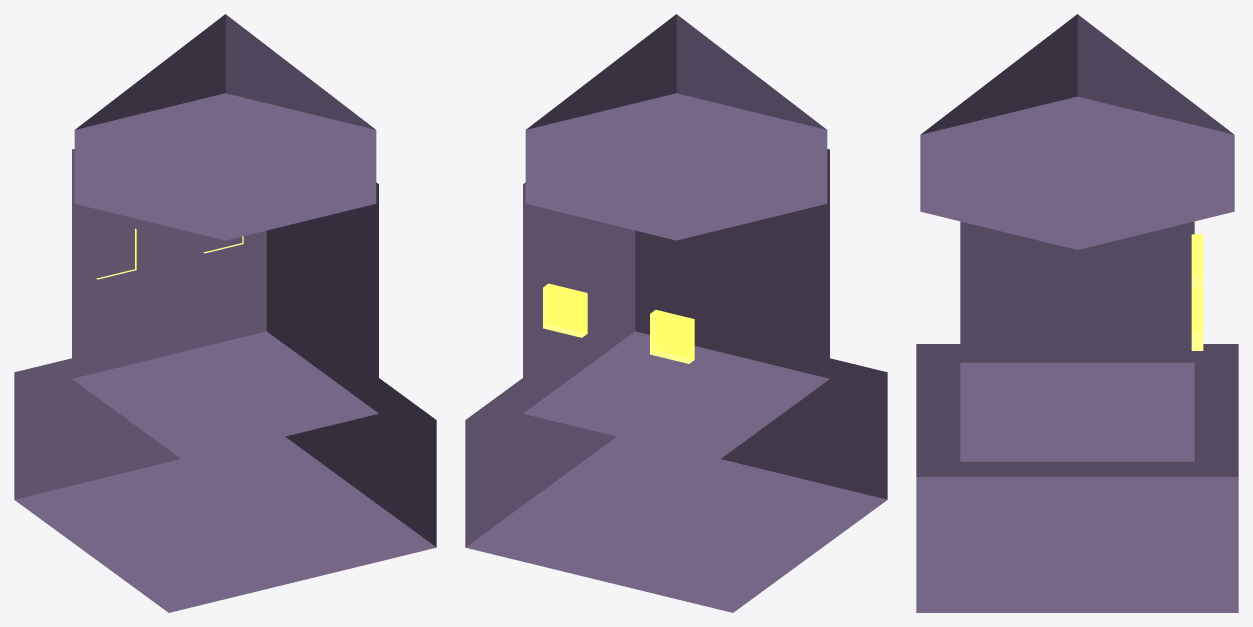
The model's file is structure.glb.
3 views of the same model, side by side, from view 1: azimuth 30°, elevation 25°; view 2: azimuth 150°, elevation 25°; view 3: azimuth 270°, elevation 25° (orthographic). The views are drawn at different scales.
Visible parts, largest first — view 1: structure; view 2: structure; view 3: structure.
Part boxes in pixels (<box>): structure: <box>14,14,436,612</box>; structure: <box>465,14,887,612</box>; structure: <box>916,14,1238,612</box>.
Bounding box in the file's own units: 1.24 × 2 × 1.1.
